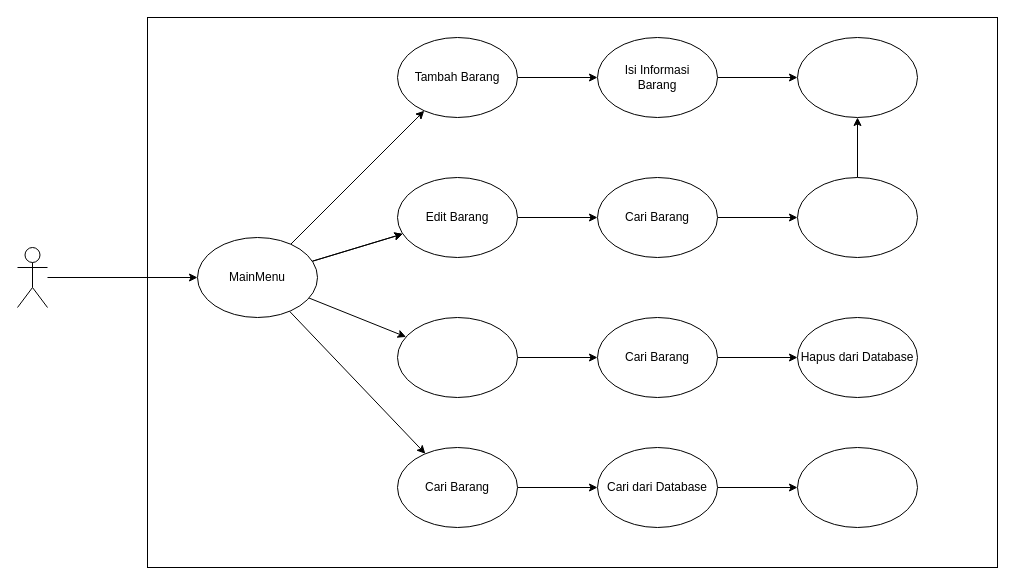
Image size: 1015x585. Some labels were removed from this diagram. Each missing label, with the centre of its shape:
Edit Informasi Barang: point (857, 217)
Hapus Barang: point (457, 357)
Masukkan ke Database: point (857, 77)
Tampilkan Barang: point (857, 487)
User: point (32, 277)
